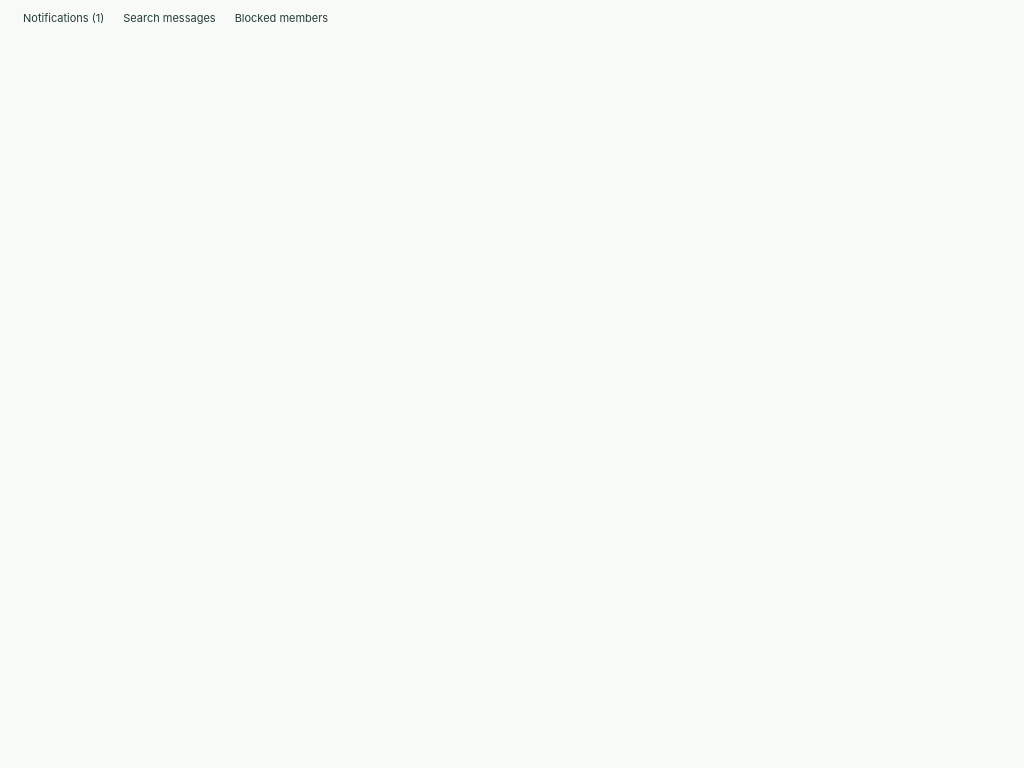
Test: keeps removed membership notices private and marks an own notification read
Later steps or results of the test are not shown.
Click the button "Notifications (1)" at (64, 18), box [16,5,111,32]
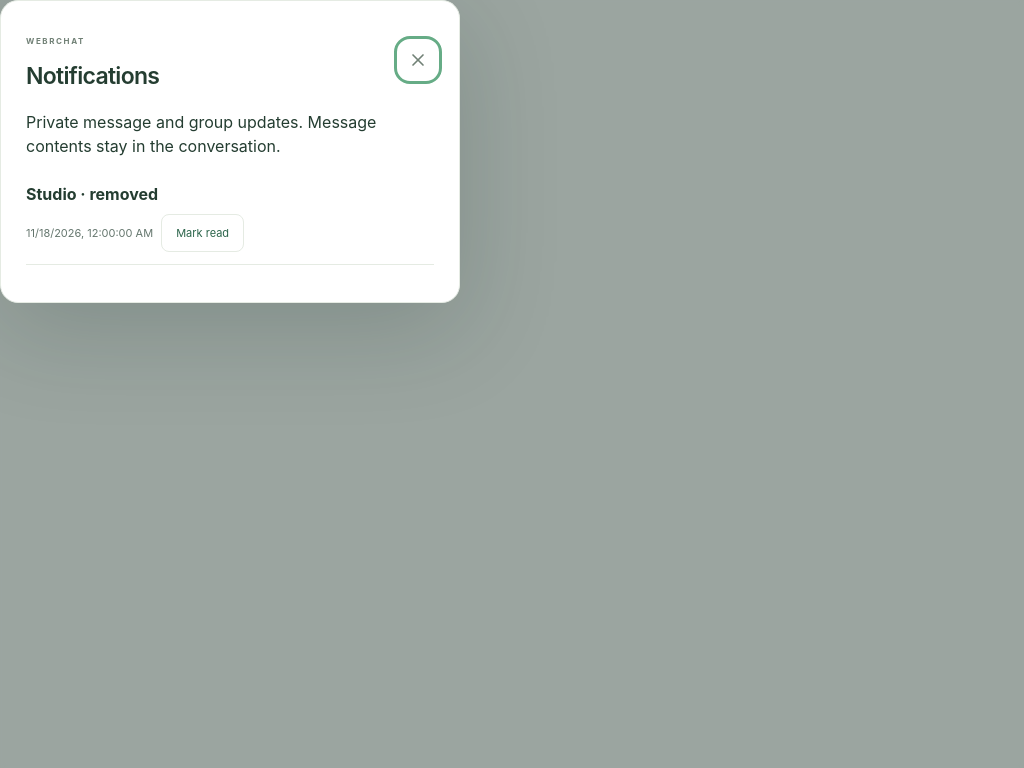
Now the text "Studio · removed" is shown, box [26,184,158,204]
